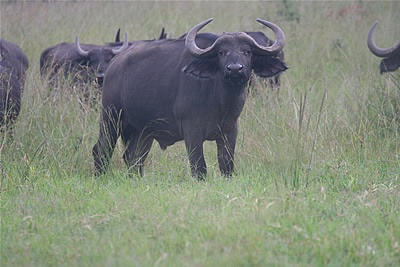buffalo: (92, 18, 286, 185), (37, 31, 133, 113)
